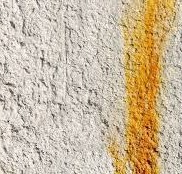Corrosion: (122, 1, 182, 174), (105, 135, 122, 174)
